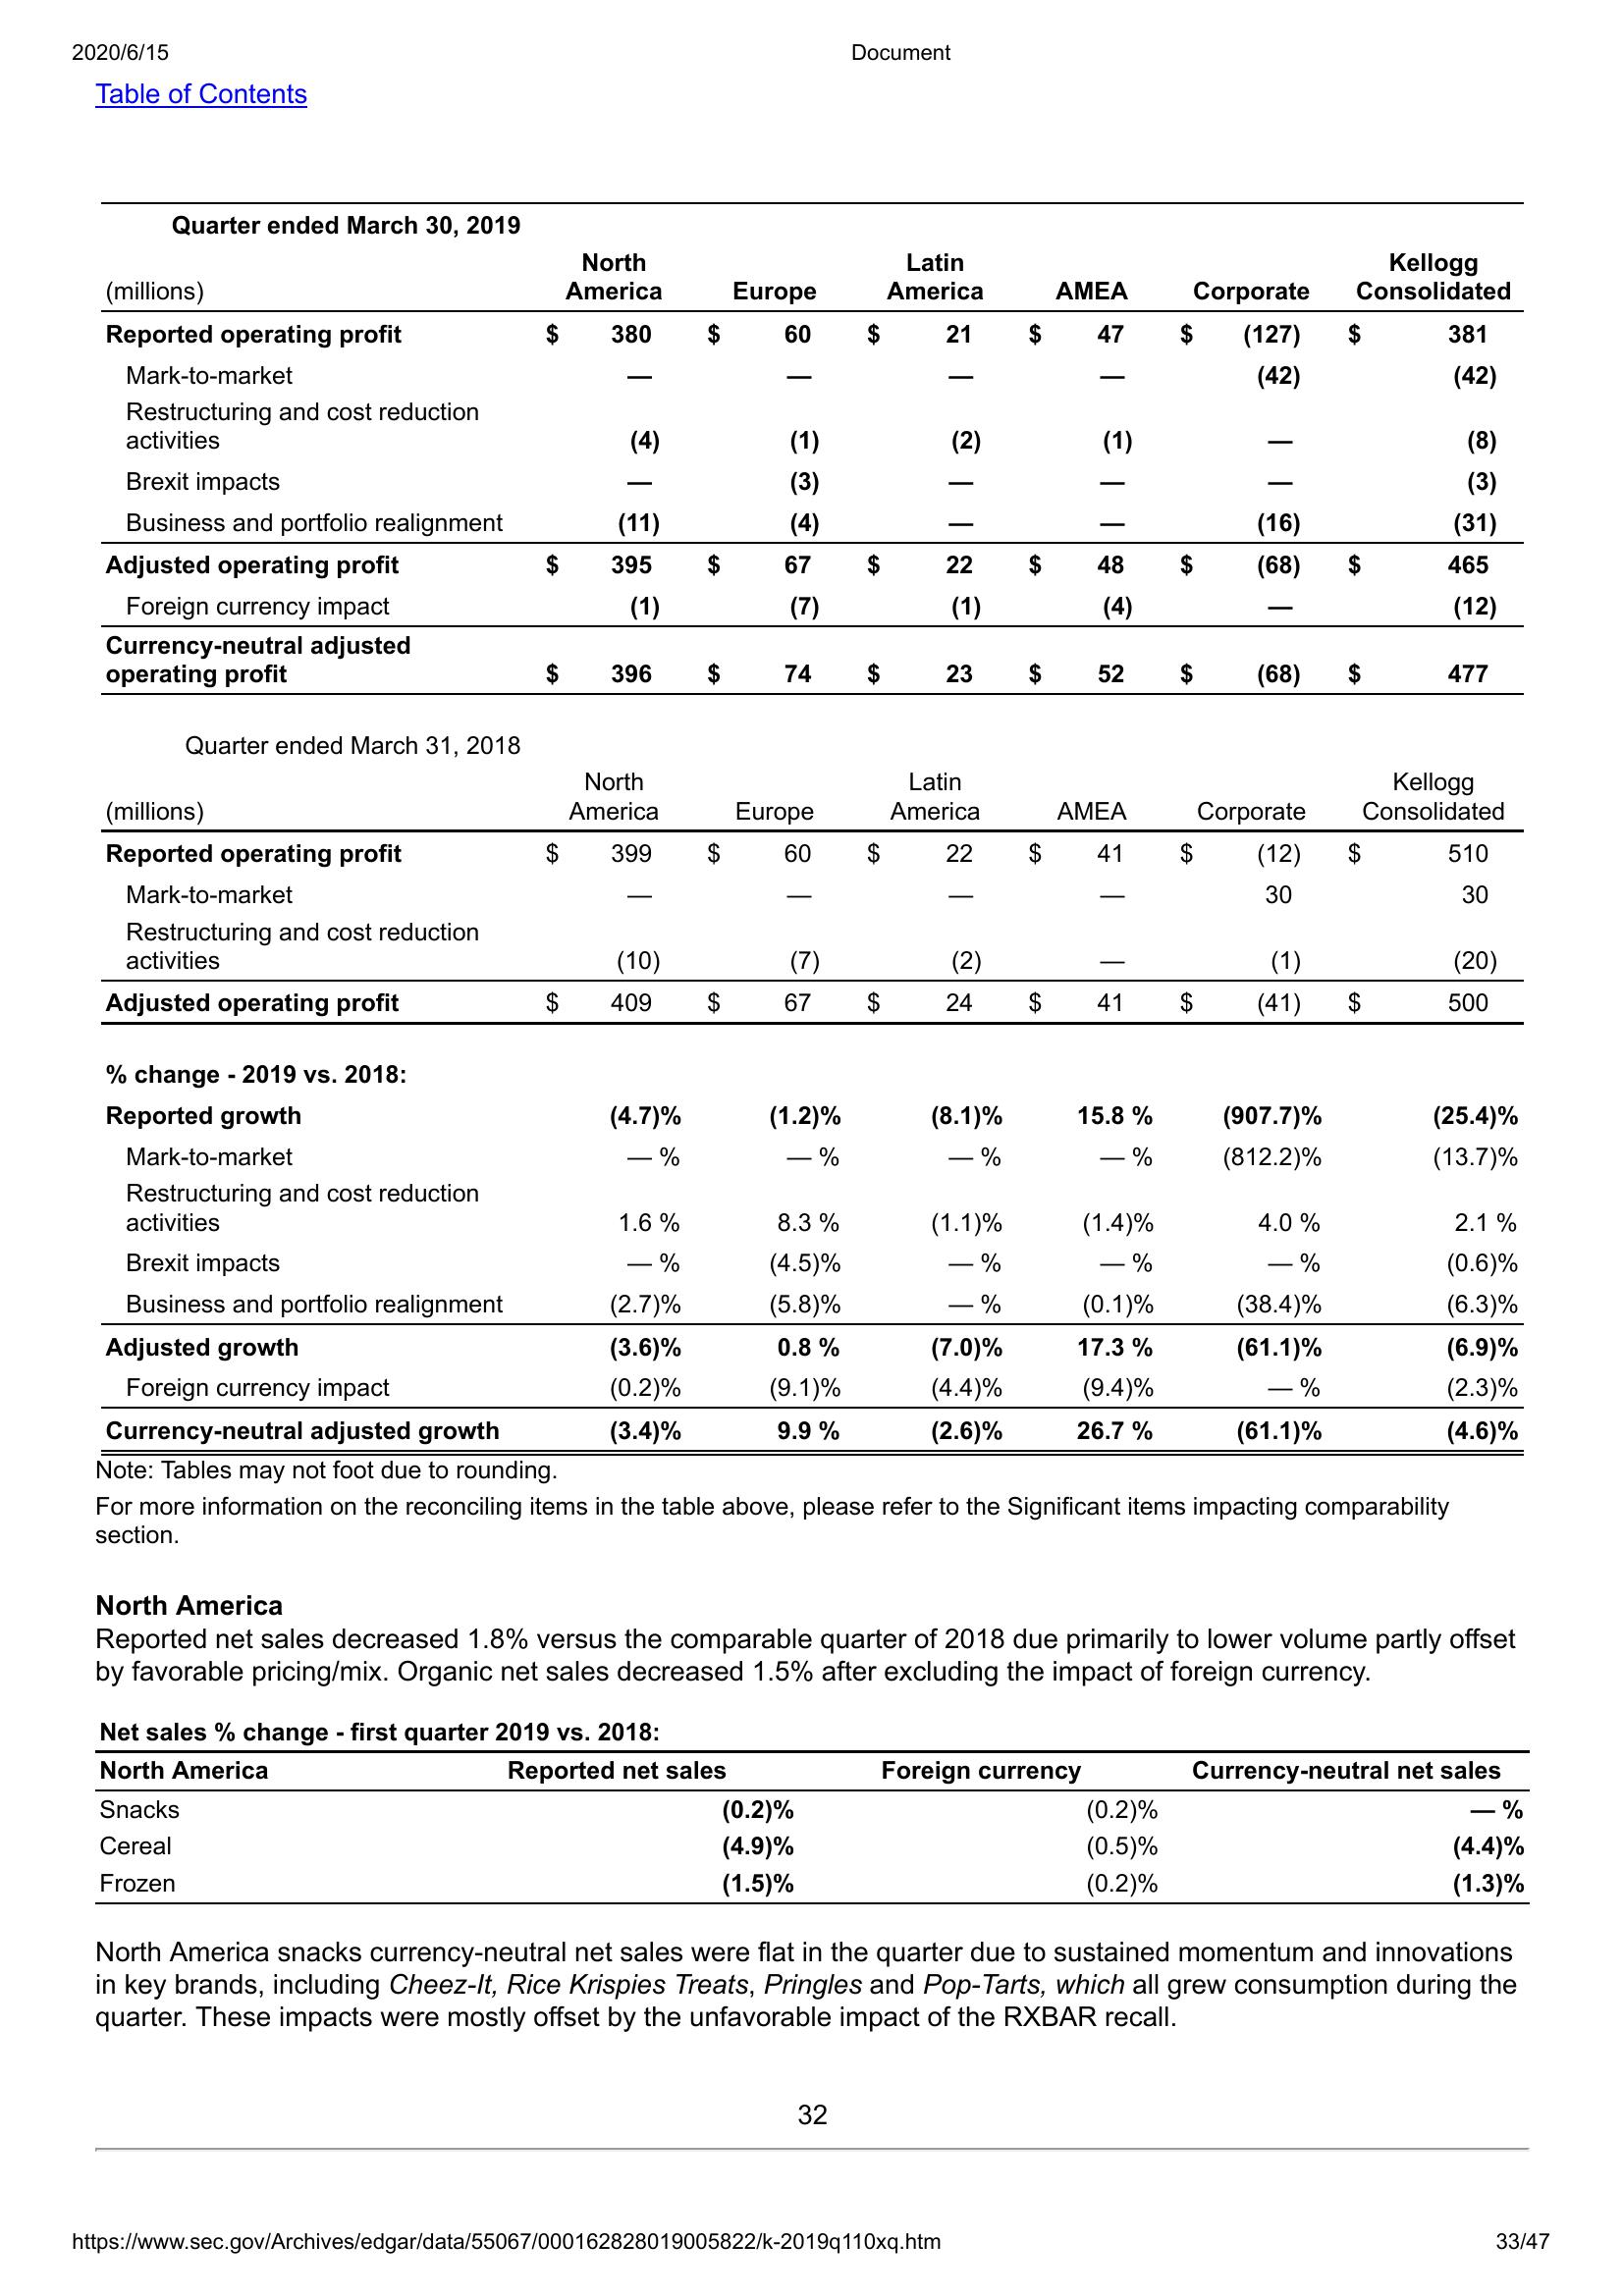table: (95, 767, 1533, 1464), (98, 244, 1528, 697), (95, 1718, 1535, 1910)
